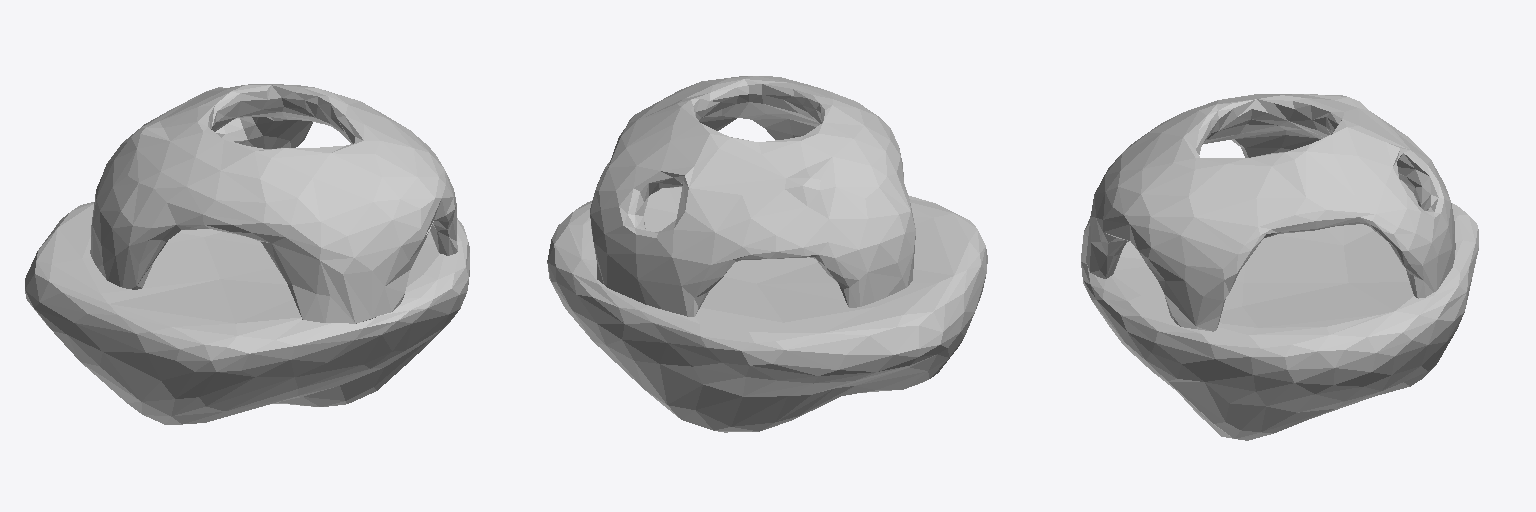
The model's file is island5Lo.obj.
3 renders of one model, left to right at view 1: azimuth 30°, elevation 25°; view 2: azimuth 150°, elevation 25°; view 3: azimuth 270°, elevation 25°, orthographic.
Visible parts, largest first — view 1: F3:GeoDome1_copy3_F3:GeoDome1_copy3_auv, F3:GeoDome1_F3:GeoDome1_auv; view 2: F3:GeoDome1_copy3_F3:GeoDome1_copy3_auv, F3:GeoDome1_F3:GeoDome1_auv; view 3: F3:GeoDome1_copy3_F3:GeoDome1_copy3_auv, F3:GeoDome1_F3:GeoDome1_auv.
Part boxes in pixels (bbox=[...]): F3:GeoDome1_copy3_F3:GeoDome1_copy3_auv: bbox=[90, 84, 457, 323]; F3:GeoDome1_F3:GeoDome1_auv: bbox=[25, 202, 469, 424]; F3:GeoDome1_copy3_F3:GeoDome1_copy3_auv: bbox=[590, 76, 915, 316]; F3:GeoDome1_F3:GeoDome1_auv: bbox=[547, 187, 987, 432]; F3:GeoDome1_copy3_F3:GeoDome1_copy3_auv: bbox=[1086, 94, 1455, 331]; F3:GeoDome1_F3:GeoDome1_auv: bbox=[1081, 179, 1478, 440].
Size of the model in its own units: 2.31 by 1.59 by 2.03.